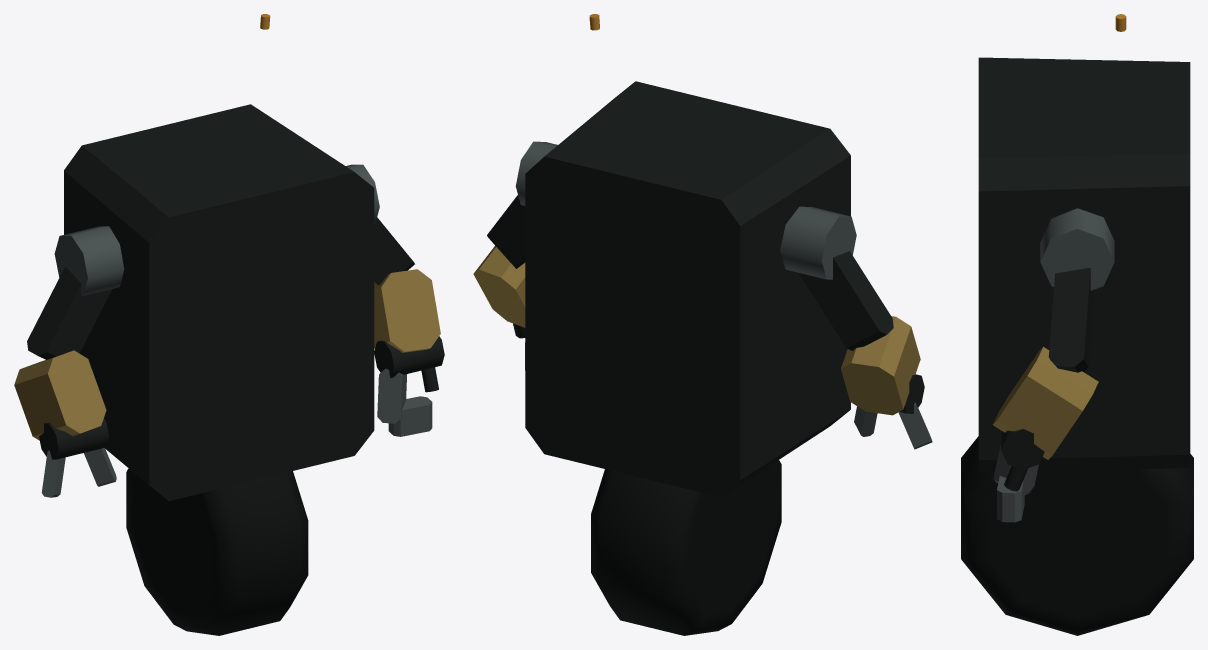
File: KLONK.shadow.glb
3 views of the same model, side by side, from view 1: azimuth 30°, elevation 25°; view 2: azimuth 150°, elevation 25°; view 3: azimuth 270°, elevation 25° (orthographic). The views are drawn at different scales.
Parts seen in each view (by area): view 1: body_geometry, wheel_geometry, armL_geometry, armR_geometry; view 2: body_geometry, wheel_geometry, armL_geometry, armR_geometry; view 3: body_geometry, wheel_geometry, armR_geometry.
Part boxes in pixels (box(x1,y1,x2,y2)): body_geometry: box(64, 14, 374, 500); wheel_geometry: box(126, 468, 308, 635); armL_geometry: box(14, 226, 124, 497); armR_geometry: box(346, 164, 444, 436); body_geometry: box(525, 14, 850, 497); wheel_geometry: box(591, 460, 781, 635); armL_geometry: box(780, 206, 932, 449); armR_geometry: box(473, 141, 557, 370); body_geometry: box(978, 14, 1190, 472); wheel_geometry: box(961, 436, 1193, 635); armR_geometry: box(993, 208, 1114, 522).
Size of the model in its own units: 0.5882 by 0.8005 by 0.2638.
1 material, 1 textured.
